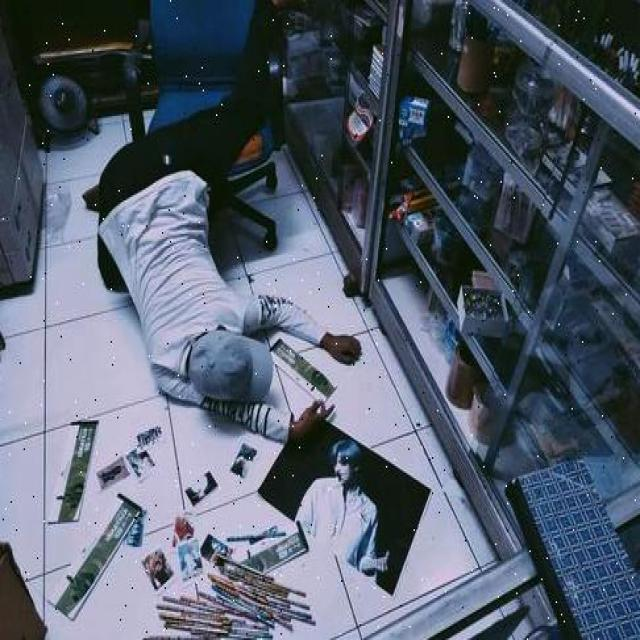fall: (92, 126, 342, 442)
